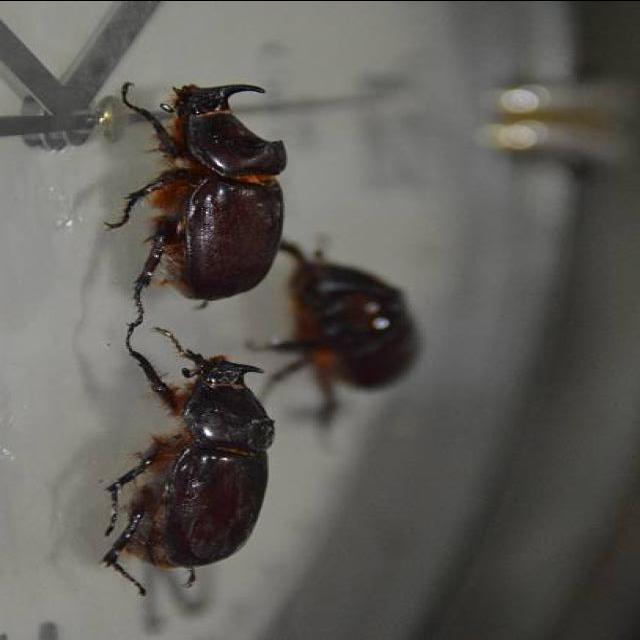Rhino-beetle: (90, 344, 276, 606), (107, 78, 285, 324), (290, 221, 434, 429)
